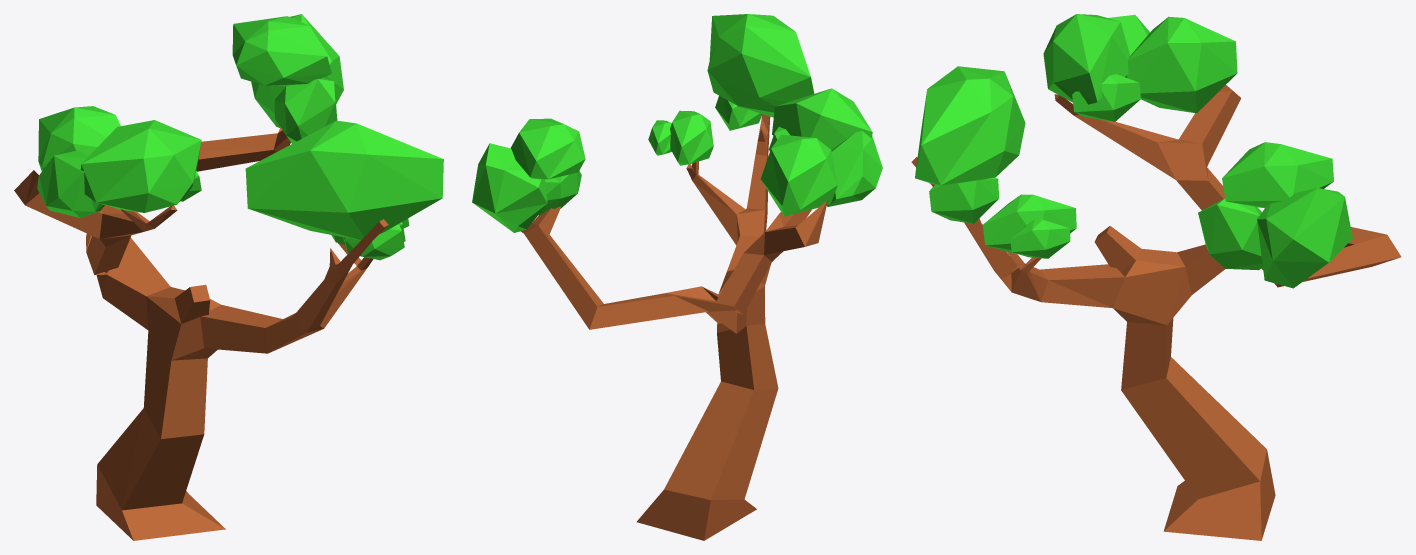
Rendered from Tree 1.fbx.
3 views of the same model, side by side, from view 1: azimuth 30°, elevation 25°; view 2: azimuth 150°, elevation 25°; view 3: azimuth 270°, elevation 25° (orthographic). The views are drawn at different scales.
Visible parts, largest first — view 1: Tree Trunk, Tree Leaves.007, Tree Leaves, Tree Leaves.001, Tree Leaves.008, Tree Leaves.004, Tree Leaves.009, Tree Leaves.005, Tree Leaves.006; view 2: Tree Trunk, Tree Leaves.007, Tree Leaves.008, Tree Leaves.005, Tree Leaves, Tree Leaves.001, Tree Leaves.009, Tree Leaves.003, Tree Leaves.004, Tree Leaves.006, Tree Leaves.002; view 3: Tree Trunk, Tree Leaves.007, Tree Leaves.008, Tree Leaves.005, Tree Leaves, Tree Leaves.001, Tree Leaves.004, Tree Leaves.003, Tree Leaves.006, Tree Leaves.010, Tree Leaves.002, Tree Leaves.009.
Boxes of the visible parts, x1,y1,x2,y2 form: Tree Trunk: (14,127,388,540); Tree Leaves.007: (245,120,443,240); Tree Leaves: (80,120,201,212); Tree Leaves.001: (232,16,331,85); Tree Leaves.008: (38,106,120,171); Tree Leaves.004: (274,77,337,143); Tree Leaves.009: (37,150,104,218); Tree Leaves.005: (251,14,343,127); Tree Leaves.006: (343,224,404,260); Tree Trunk: (521,114,827,540); Tree Leaves.007: (707,14,814,117); Tree Leaves.008: (760,134,837,216); Tree Leaves.005: (472,143,547,232); Tree Leaves: (772,88,872,149); Tree Leaves.001: (511,118,585,179); Tree Leaves.009: (827,131,882,206); Tree Leaves.003: (670,110,713,165); Tree Leaves.004: (538,171,581,215); Tree Leaves.006: (715,95,762,130); Tree Leaves.002: (648,120,671,155); Tree Trunk: (911,85,1401,540); Tree Leaves.007: (915,66,1025,185); Tree Leaves.008: (1127,16,1237,113); Tree Leaves.005: (1257,188,1352,288); Tree Leaves: (1043,14,1129,104); Tree Leaves.001: (1222,142,1333,208); Tree Leaves.004: (1198,198,1262,270); Tree Leaves.003: (982,194,1076,253); Tree Leaves.006: (929,177,999,223); Tree Leaves.010: (1072,74,1140,121); Tree Leaves.002: (1010,219,1070,258); Tree Leaves.009: (1108,15,1149,77).
Size of the model in its own units: 428 by 515 by 486.
